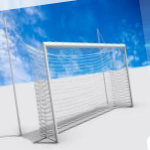goals: (25, 39, 134, 146)
